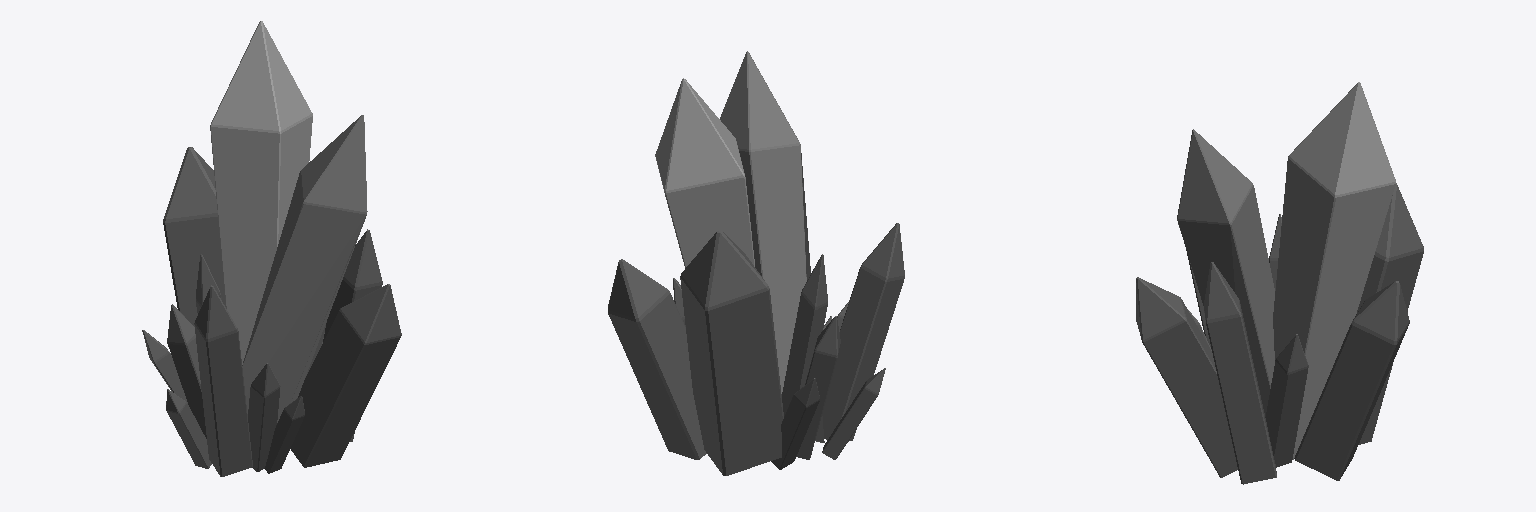
The model's file is Stage4.obj.
The picture shows the model from 3 angles: view 1: azimuth 30°, elevation 25°; view 2: azimuth 150°, elevation 25°; view 3: azimuth 270°, elevation 25°; orthographic projection.
Visible parts, largest first — view 1: Stage4_CrystalStage3_CrystalCrack.002; view 2: Stage4_CrystalStage3_CrystalCrack.002; view 3: Stage4_CrystalStage3_CrystalCrack.002.
Boxes of the visible parts, box(x1,y1,x2,y2) form: Stage4_CrystalStage3_CrystalCrack.002: box(142, 21, 401, 476); Stage4_CrystalStage3_CrystalCrack.002: box(608, 51, 904, 475); Stage4_CrystalStage3_CrystalCrack.002: box(1136, 82, 1423, 484).
Size of the model in its own units: 0.7488 by 1.35 by 0.9068.